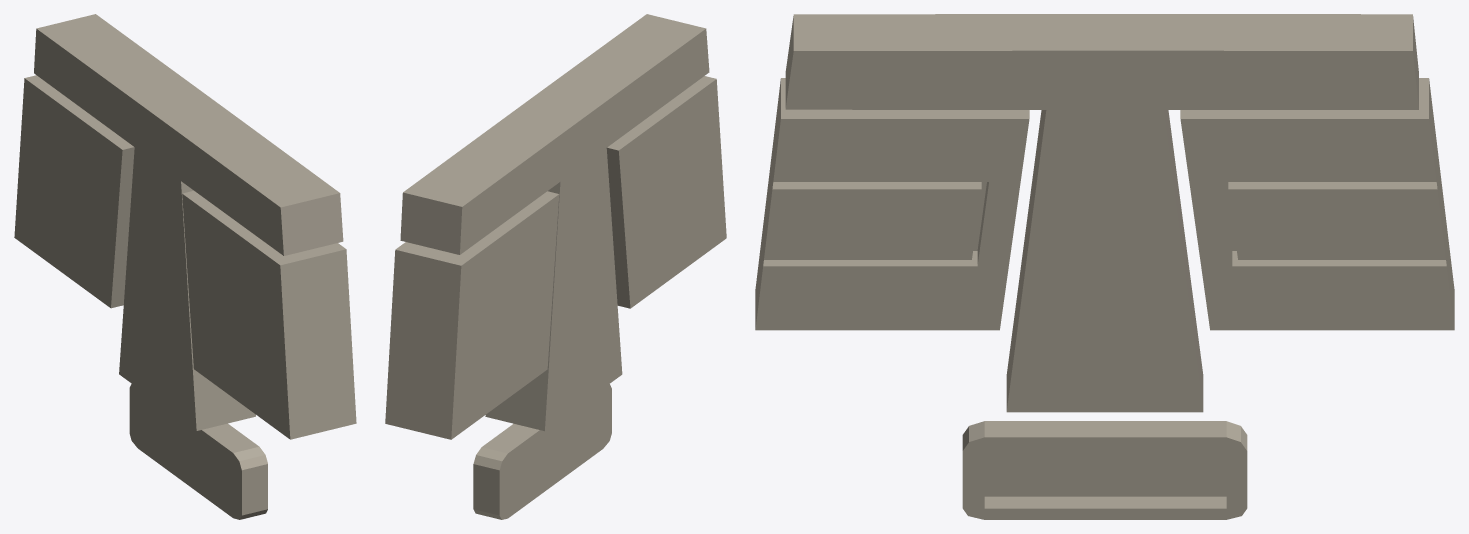
The model's file is Mascara_Qhapaq.glb.
3 views of the same model, side by side, from view 1: azimuth 30°, elevation 25°; view 2: azimuth 150°, elevation 25°; view 3: azimuth 270°, elevation 25° (orthographic). The views are drawn at different scales.
Visible parts, largest first — view 1: Cubo.002; view 2: Cubo.002; view 3: Cubo.002.
Part boxes in pixels (left/top/right/bottom): Cubo.002: left=14, top=14, right=356, bottom=519; Cubo.002: left=385, top=14, right=726, bottom=519; Cubo.002: left=755, top=14, right=1454, bottom=519.
Bounding box in the file's own units: 0.0878 × 0.4729 × 0.6341.
